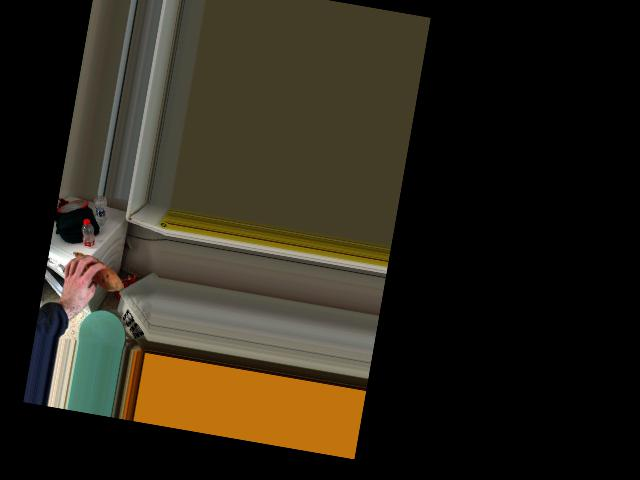sweet_potato: (65, 250, 126, 292)
